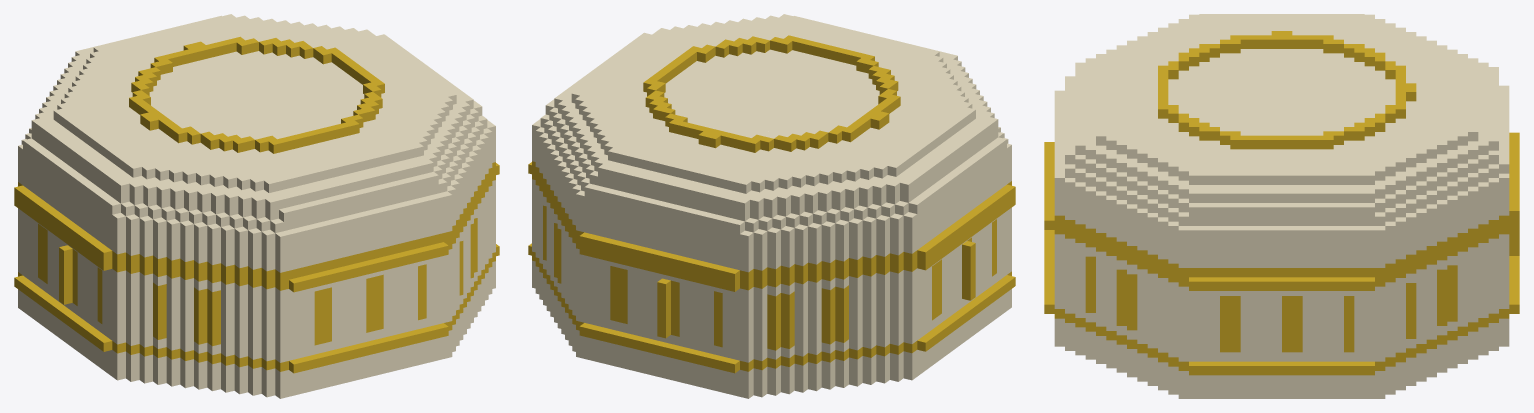
The model's file is kufi_cap.glb.
3 views of the same model, side by side, from view 1: azimuth 30°, elevation 25°; view 2: azimuth 150°, elevation 25°; view 3: azimuth 270°, elevation 25° (orthographic). The views are drawn at different scales.
Parts seen in each view (by area): view 1: kufi_cap:compound; view 2: kufi_cap:compound; view 3: kufi_cap:compound.
Boxes of the visible parts, x1,y1,x2,y2 form: kufi_cap:compound: [14, 14, 499, 398]; kufi_cap:compound: [528, 14, 1015, 398]; kufi_cap:compound: [1044, 14, 1519, 398].
Size of the model in its own units: 0.184 by 0.092 by 0.184.
